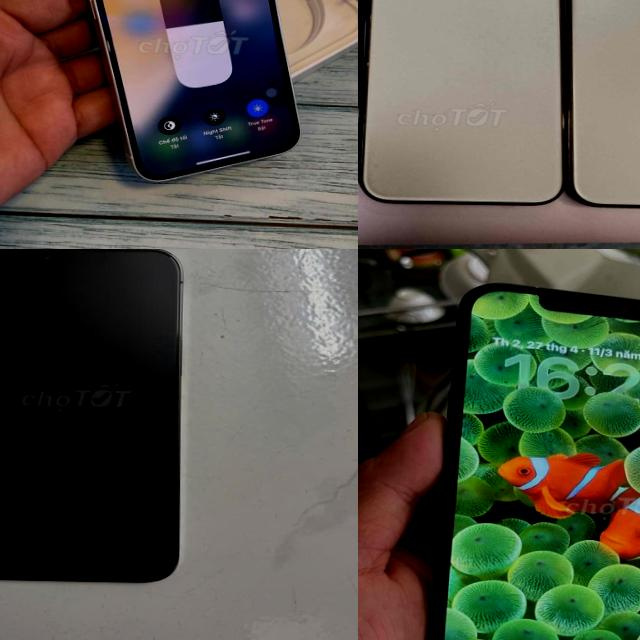gen_11: (359, 0, 569, 213), (568, 0, 640, 219)
gen_12_13: (420, 275, 640, 640), (0, 249, 193, 591), (60, 0, 308, 187)
